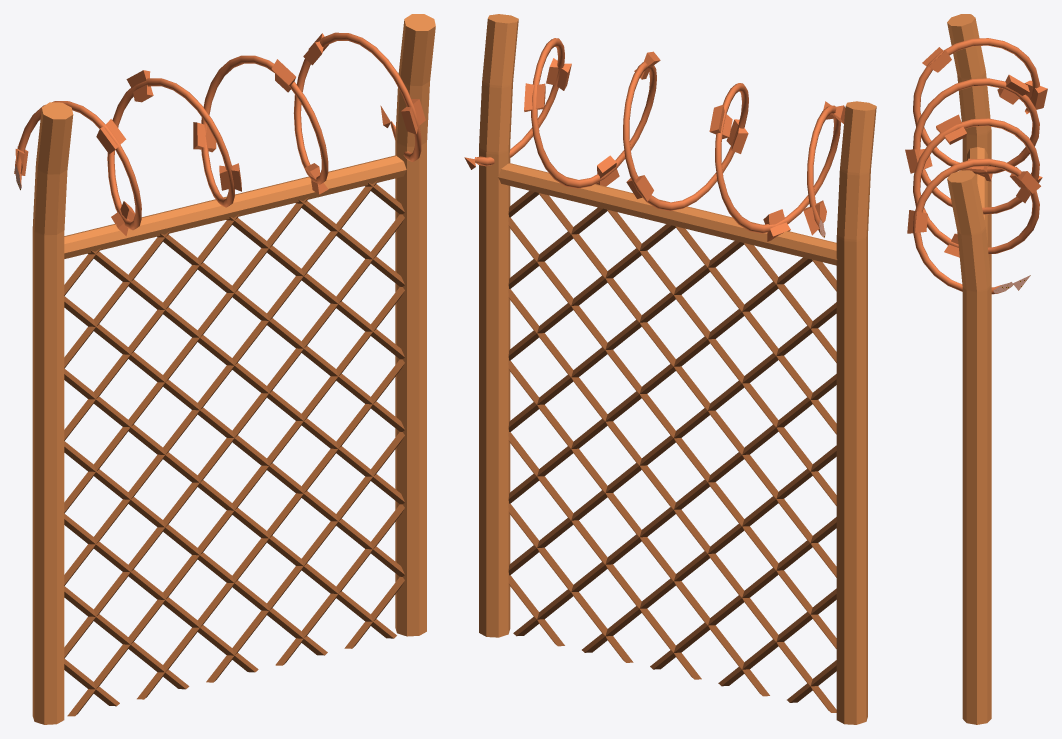
The model's file is Fence_Wire_2_1.fbx.
3 renders of one model, left to right at view 1: azimuth 30°, elevation 25°; view 2: azimuth 150°, elevation 25°; view 3: azimuth 270°, elevation 25°, orthographic. The views are drawn at different scales.
Parts seen in each view (by area): view 1: Fence_Wire_2_1; view 2: Fence_Wire_2_1; view 3: Fence_Wire_2_1.
Boxes of the visible parts, x1,y1,x2,y2 form: Fence_Wire_2_1: (14, 14, 435, 724); Fence_Wire_2_1: (464, 14, 876, 724); Fence_Wire_2_1: (905, 14, 1047, 724).
Size of the model in its own units: 200 by 301 by 71.47.
